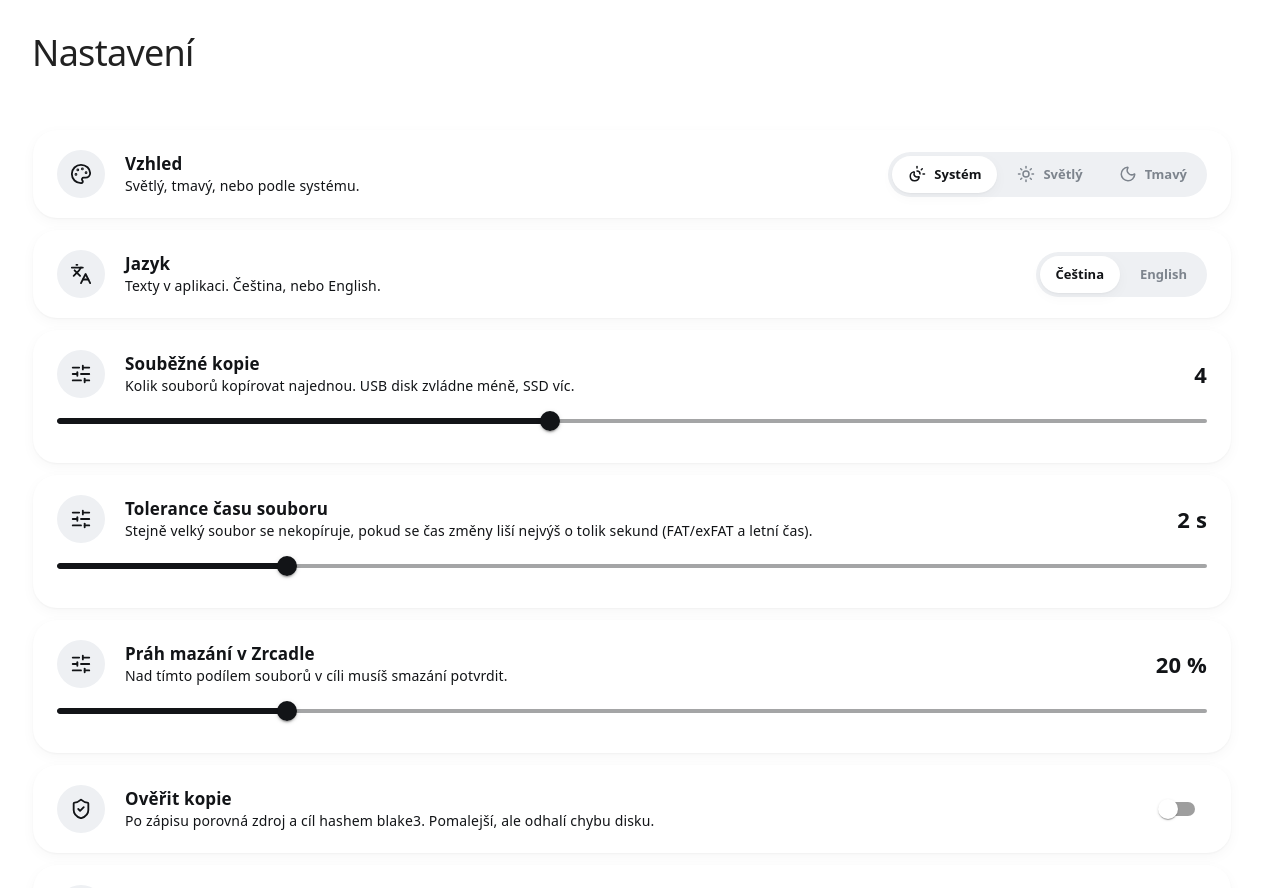
it: SettingsPage › switches the UI to English
This screenshot has width=1280, height=888.
expect the slider named "Souběžné kopie" is shown: met, box x1=540 y1=411 x2=560 y2=431
Step 1. Click the button "English" → (1164, 274), box x1=1124 y1=256 x2=1203 y2=293
(page scrolled)
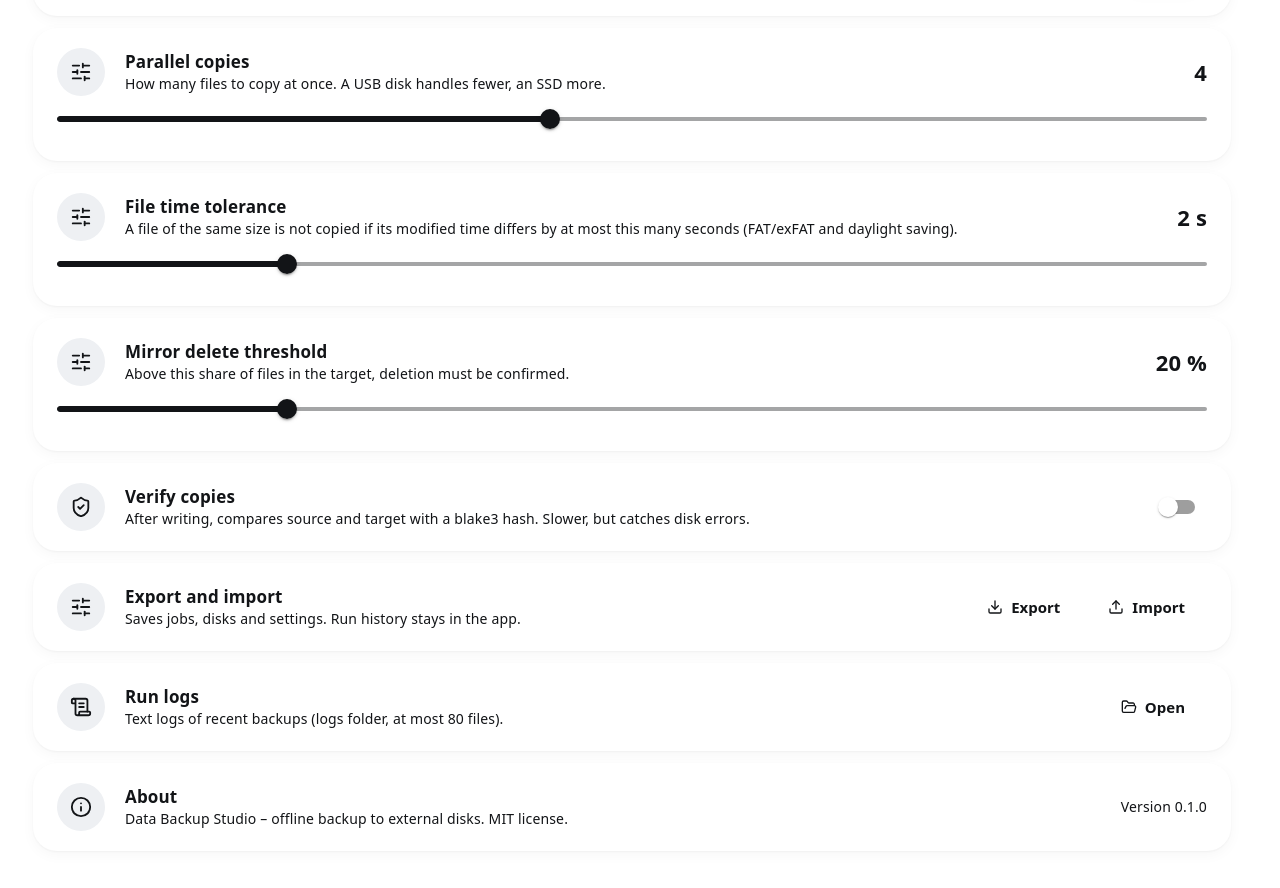
expect the button "Open" is shown: met, box x1=1103 y1=685 x2=1207 y2=729
